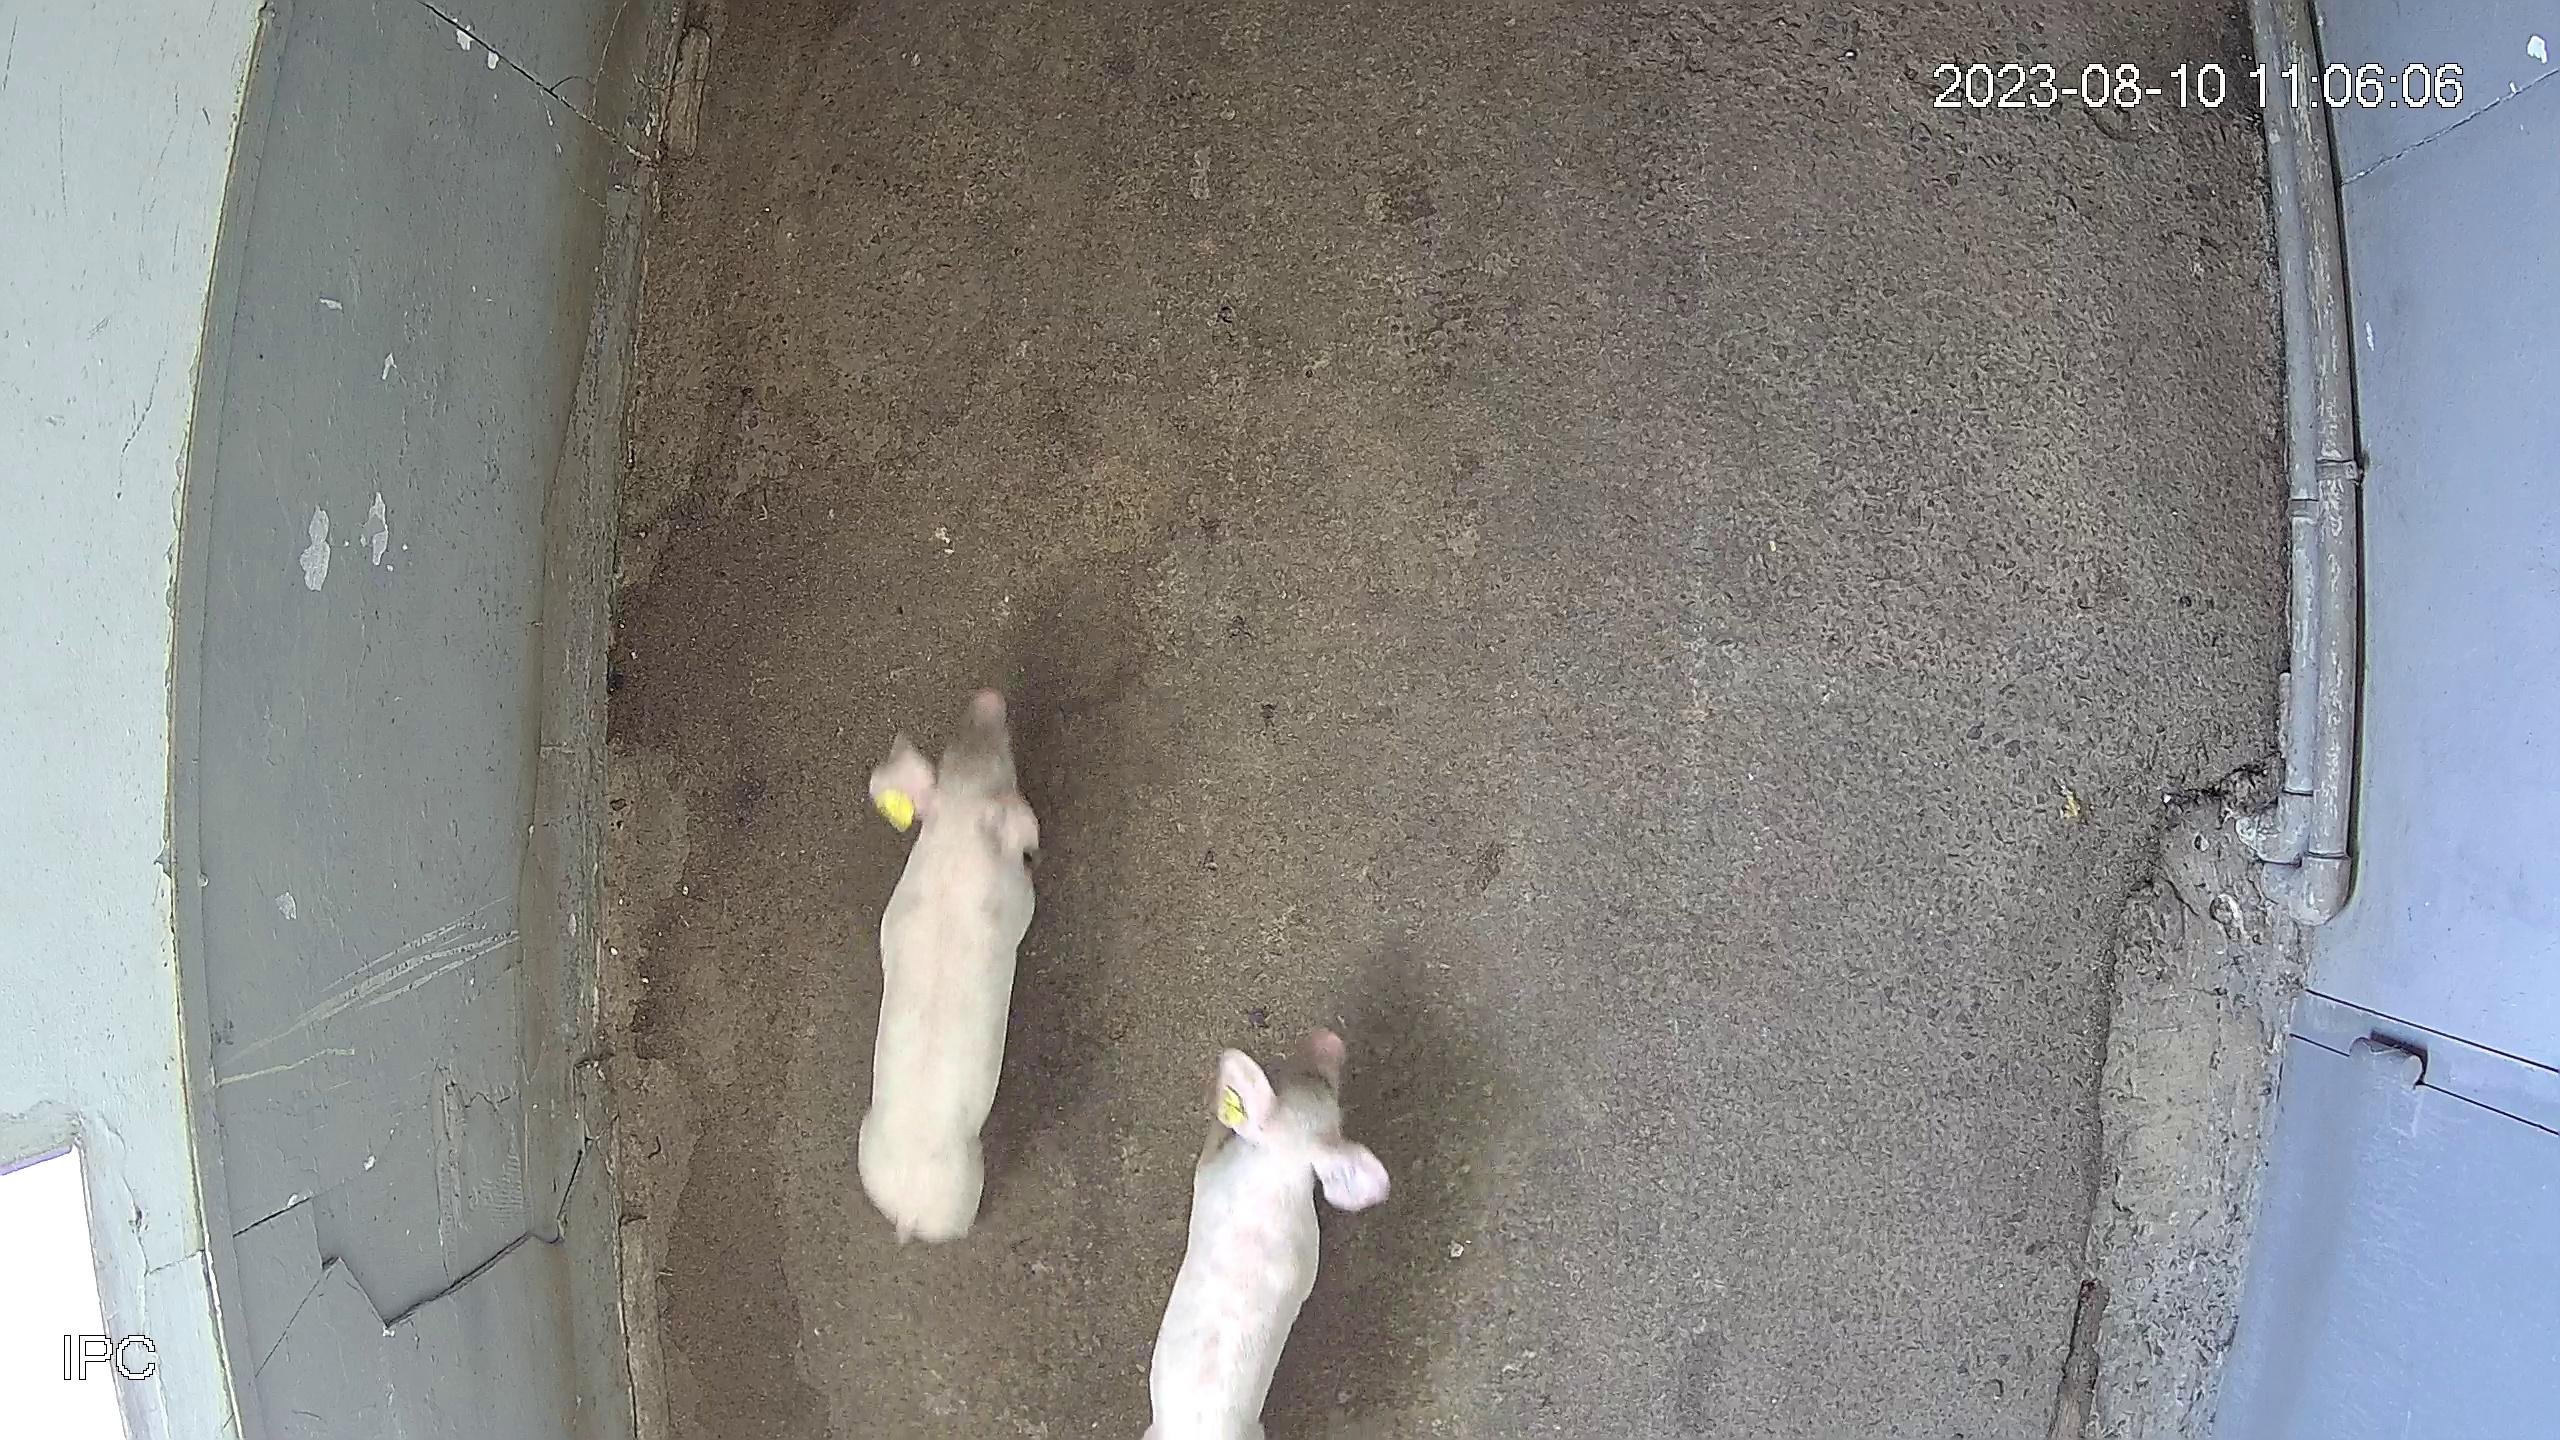Pig: (856, 687, 1037, 1243), (1146, 1029, 1391, 1440)
